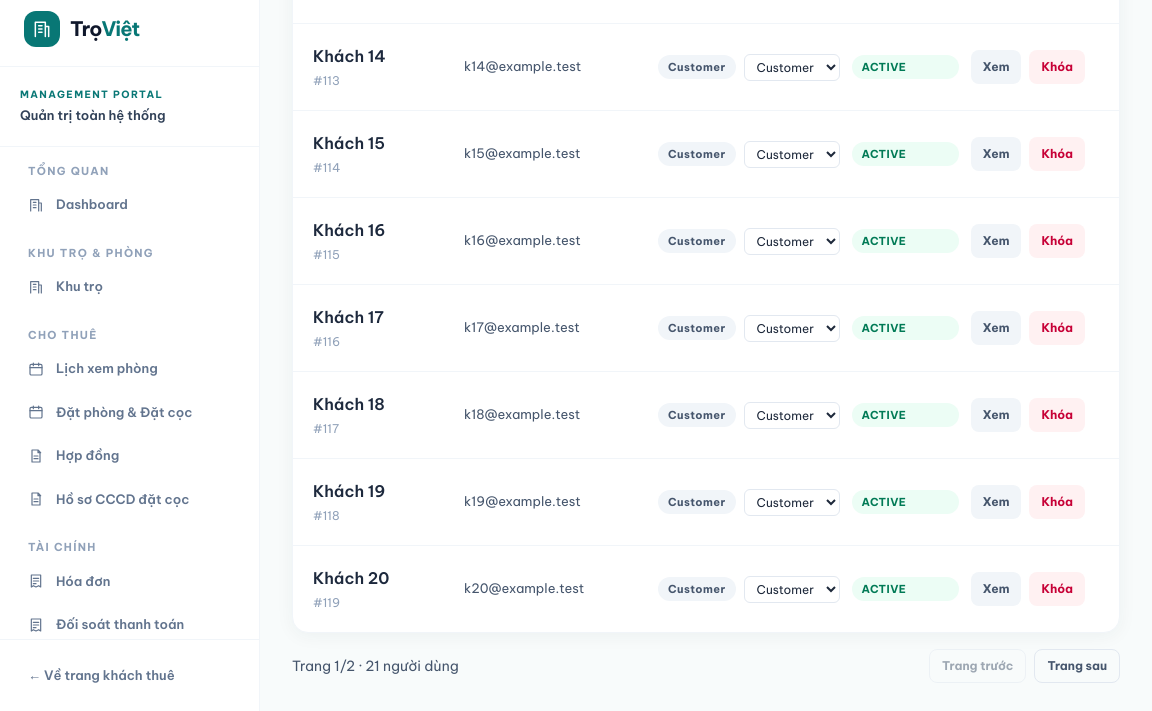
Test: Phase 4A Admin user APIs › pages through users with page/pageSize and shows the total (A15)
The width and height of the screenshot is (1152, 711).
(page scrolled)
Expected: the text "Trang 1/2 · 21 người dùng" is shown, left=292, top=656, right=459, bottom=676
Expected: the button "Trang trước" is disabled, left=929, top=649, right=1026, bottom=683
Click the button "Trang sau": (1077, 666) left=1034, top=649, right=1120, bottom=683
(page scrolled)
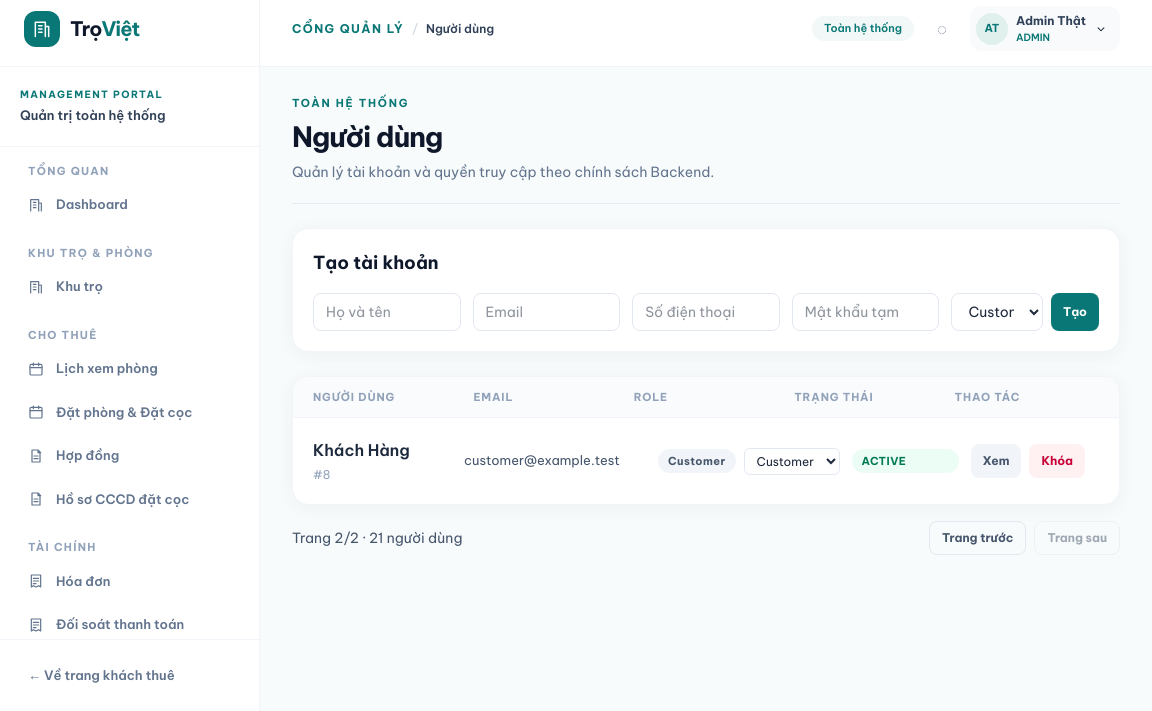
Expected: the text "customer@example.test" is shown, left=464, top=451, right=646, bottom=471
Expected: the text "Trang 2/2 · 21 người dùng" is shown, left=292, top=528, right=462, bottom=548
Expected: the button "Trang sau" is disabled, left=1034, top=521, right=1120, bottom=555
